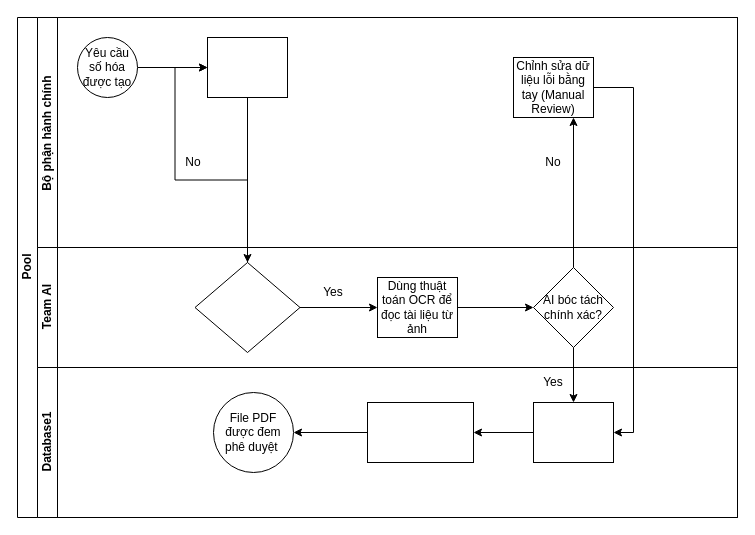
The diagram is 755 pixels wide and 535 high, and some of its shapes have lost their labels. The shapes that lost their labels are listed below. From the top down, each one's centre as x and y in pixels, then its label:
At point (247, 67): "máy scan quét tài liệu để có file ảnh".
At point (247, 307): "Hình có rõ hay không".
At point (420, 432): "Chữ ký số của nhân viên cam kết chịu trách nhiệm".
At point (573, 432): "File tài liệu định dạng PDF".
